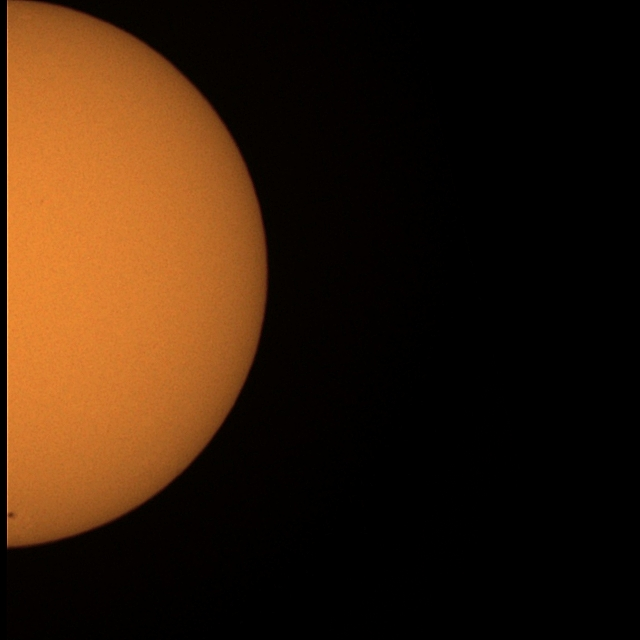sunspot: (7, 510, 17, 522)
